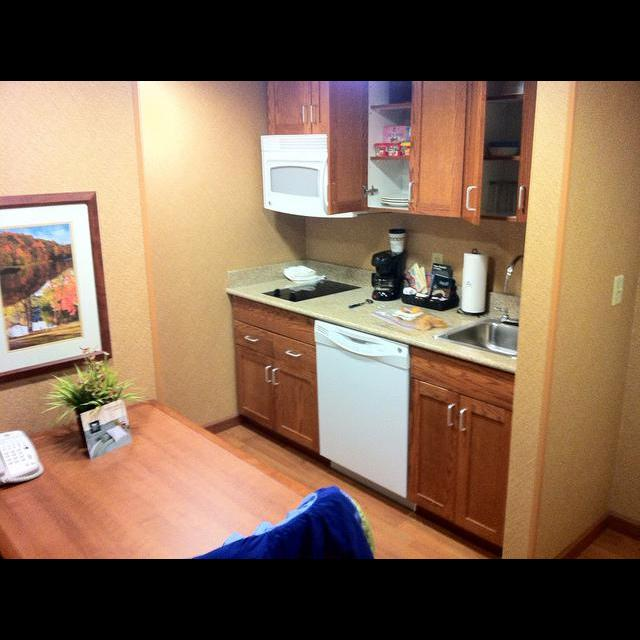Microwave: (260, 134, 368, 220)
